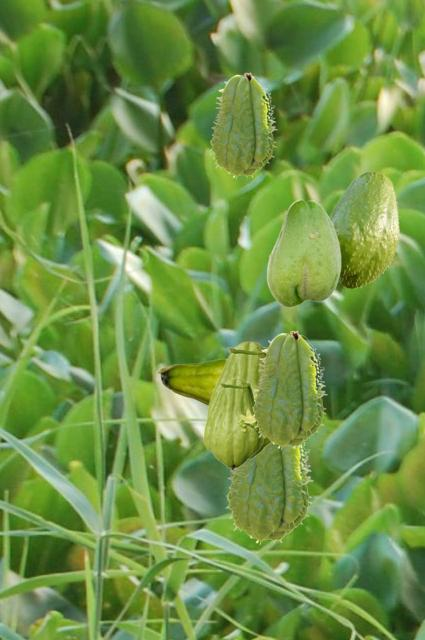sayote: (225, 441, 312, 544), (251, 330, 326, 449), (329, 171, 399, 289), (266, 199, 340, 306), (206, 341, 271, 461), (209, 72, 276, 178), (203, 378, 264, 469), (156, 358, 225, 405)
